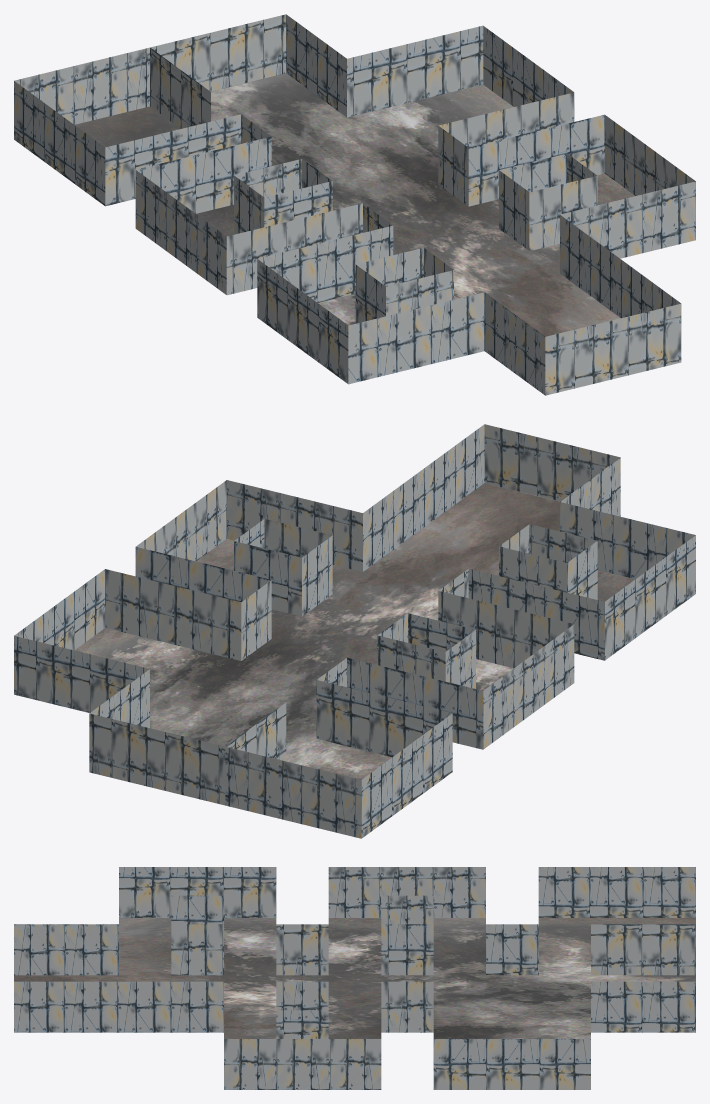
Rendered from LevelSnake.fbx.
3 views of the same model, one above another, from view 1: azimuth 30°, elevation 25°; view 2: azimuth 150°, elevation 25°; view 3: azimuth 270°, elevation 25° (orthographic). The views are drawn at different scales.
Parts seen in each view (by area): view 1: pPlane1; view 2: pPlane1; view 3: pPlane1.
Part boxes in pixels (bbox=[...]): pPlane1: bbox=[14, 14, 695, 395]; pPlane1: bbox=[14, 424, 695, 838]; pPlane1: bbox=[14, 867, 695, 1089].
Size of the model in its own units: 21.76 by 3 by 36.48.
2 materials, 2 textured.
